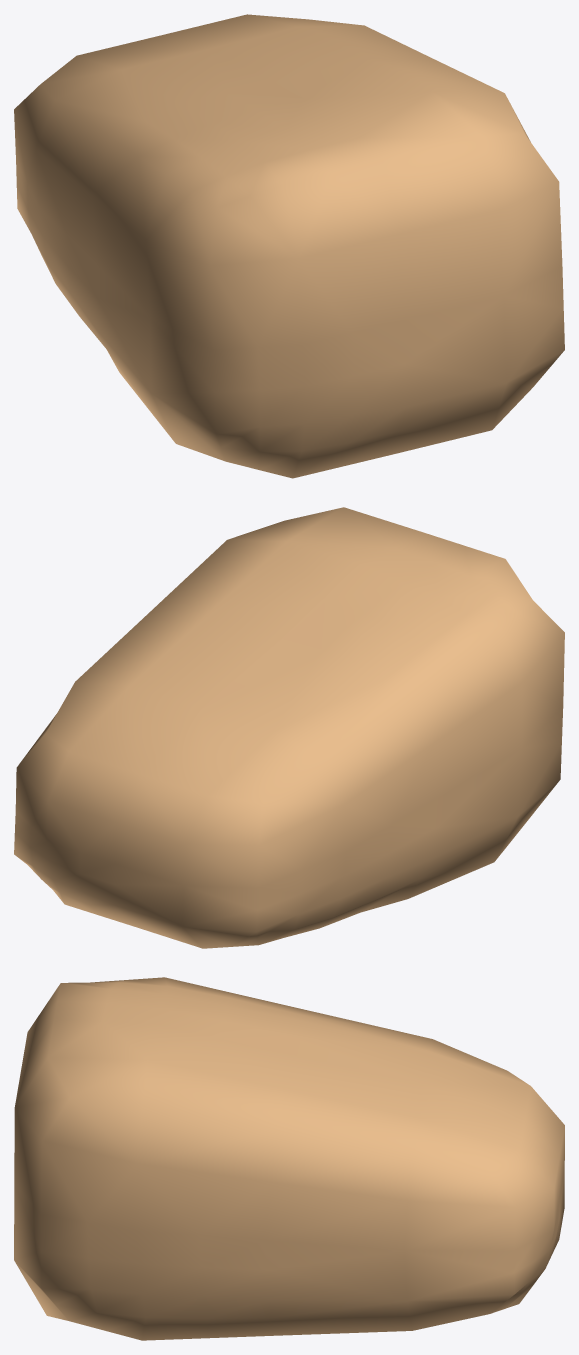
The model's file is middle_03_l.dae.
3 views of the same model, one above another, from view 1: azimuth 30°, elevation 25°; view 2: azimuth 150°, elevation 25°; view 3: azimuth 270°, elevation 25° (orthographic). The views are drawn at different scales.
Parts seen in each view (by area): view 1: skin_geo_middle_03_r; view 2: skin_geo_middle_03_r; view 3: skin_geo_middle_03_r.
Boxes of the visible parts, x1,y1,x2,y2 form: skin_geo_middle_03_r: [14, 14, 564, 478]; skin_geo_middle_03_r: [14, 507, 564, 948]; skin_geo_middle_03_r: [14, 977, 564, 1340].
Size of the model in its own units: 0.0194 by 0.0275 by 0.015.
